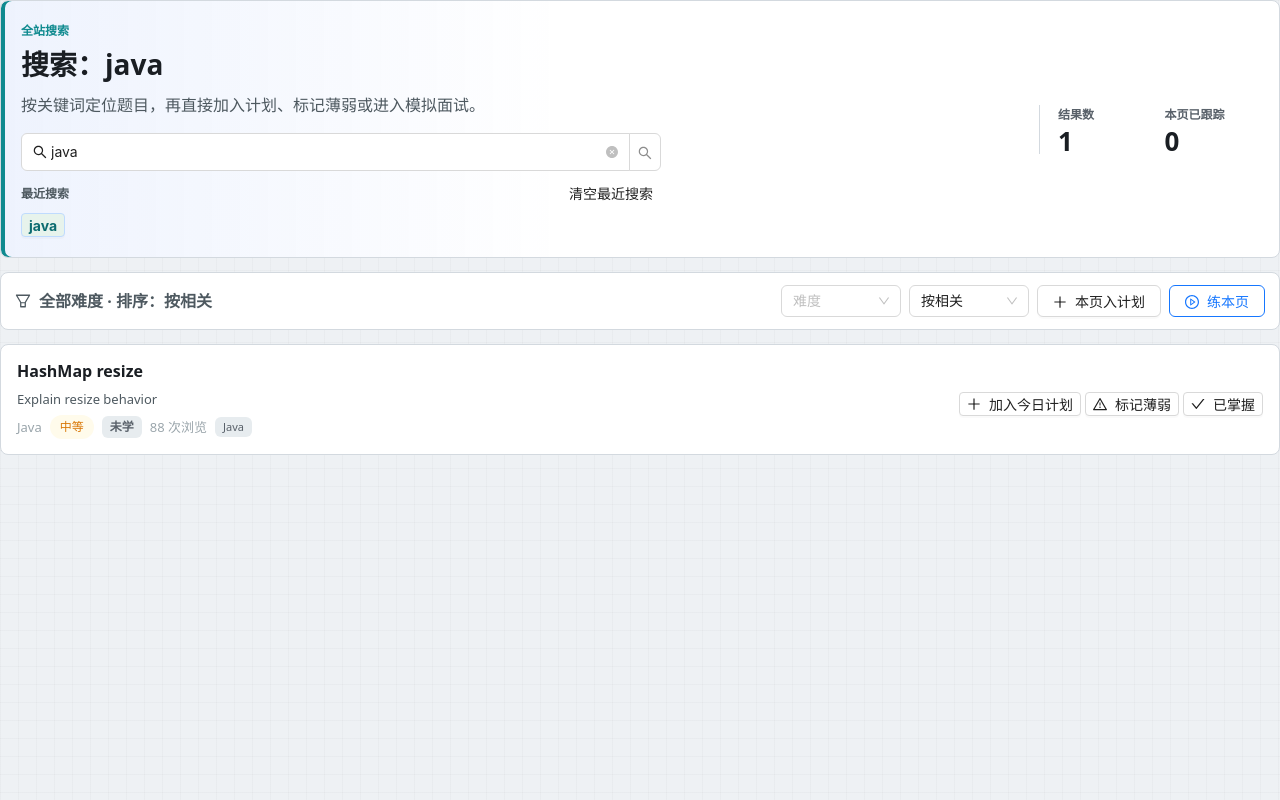
it: SearchResult › shows a recoverable empty state when a difficulty filter has no search results
Expected: the link "HashMap resize" is shown, [17, 360, 143, 382]
Click the dropdown named "按难度筛选" at (841, 301), box [793, 286, 889, 316]
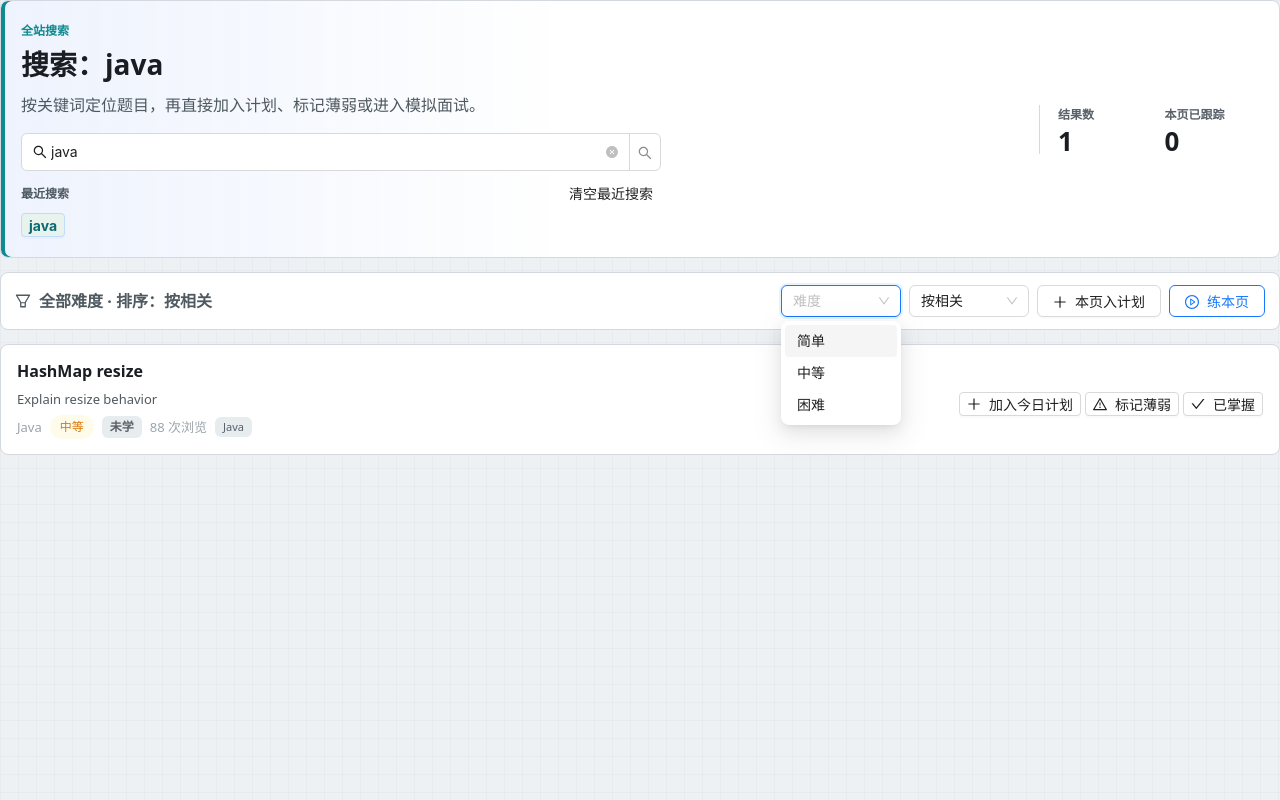
Click the text "困难" at (811, 404), box [797, 396, 825, 413]
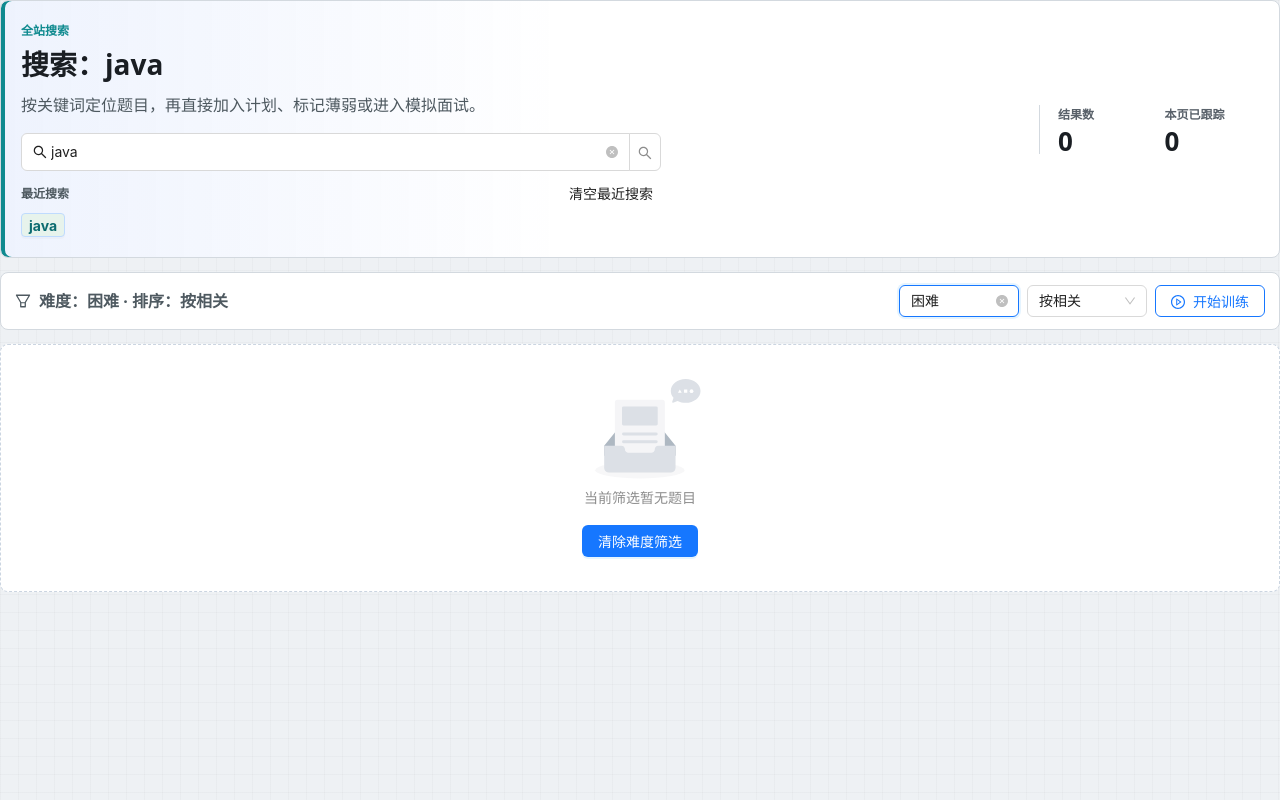
Result: the text "当前筛选暂无题目" is shown at [584, 489, 696, 506]
Click the button "清除难度筛选" at (640, 541), box [582, 525, 698, 557]
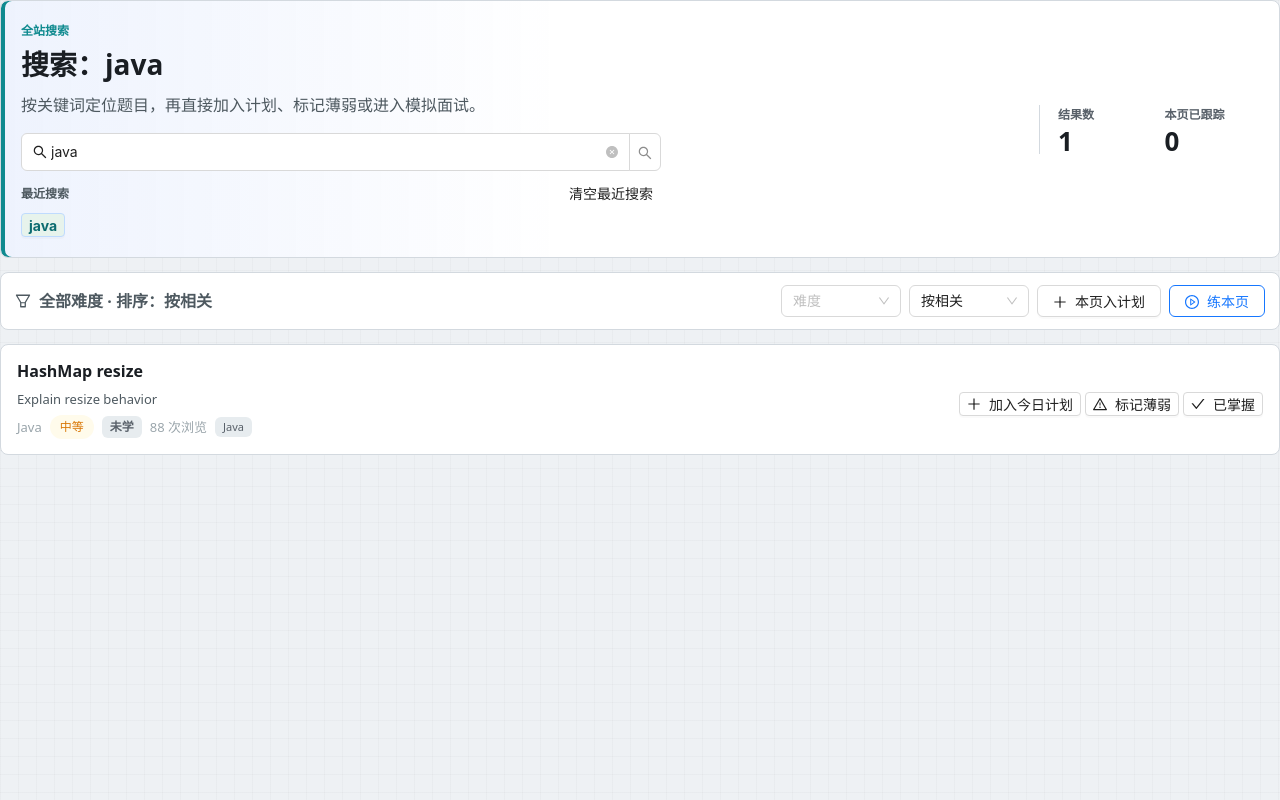
Result: the link "HashMap resize" is shown at [17, 360, 143, 382]
